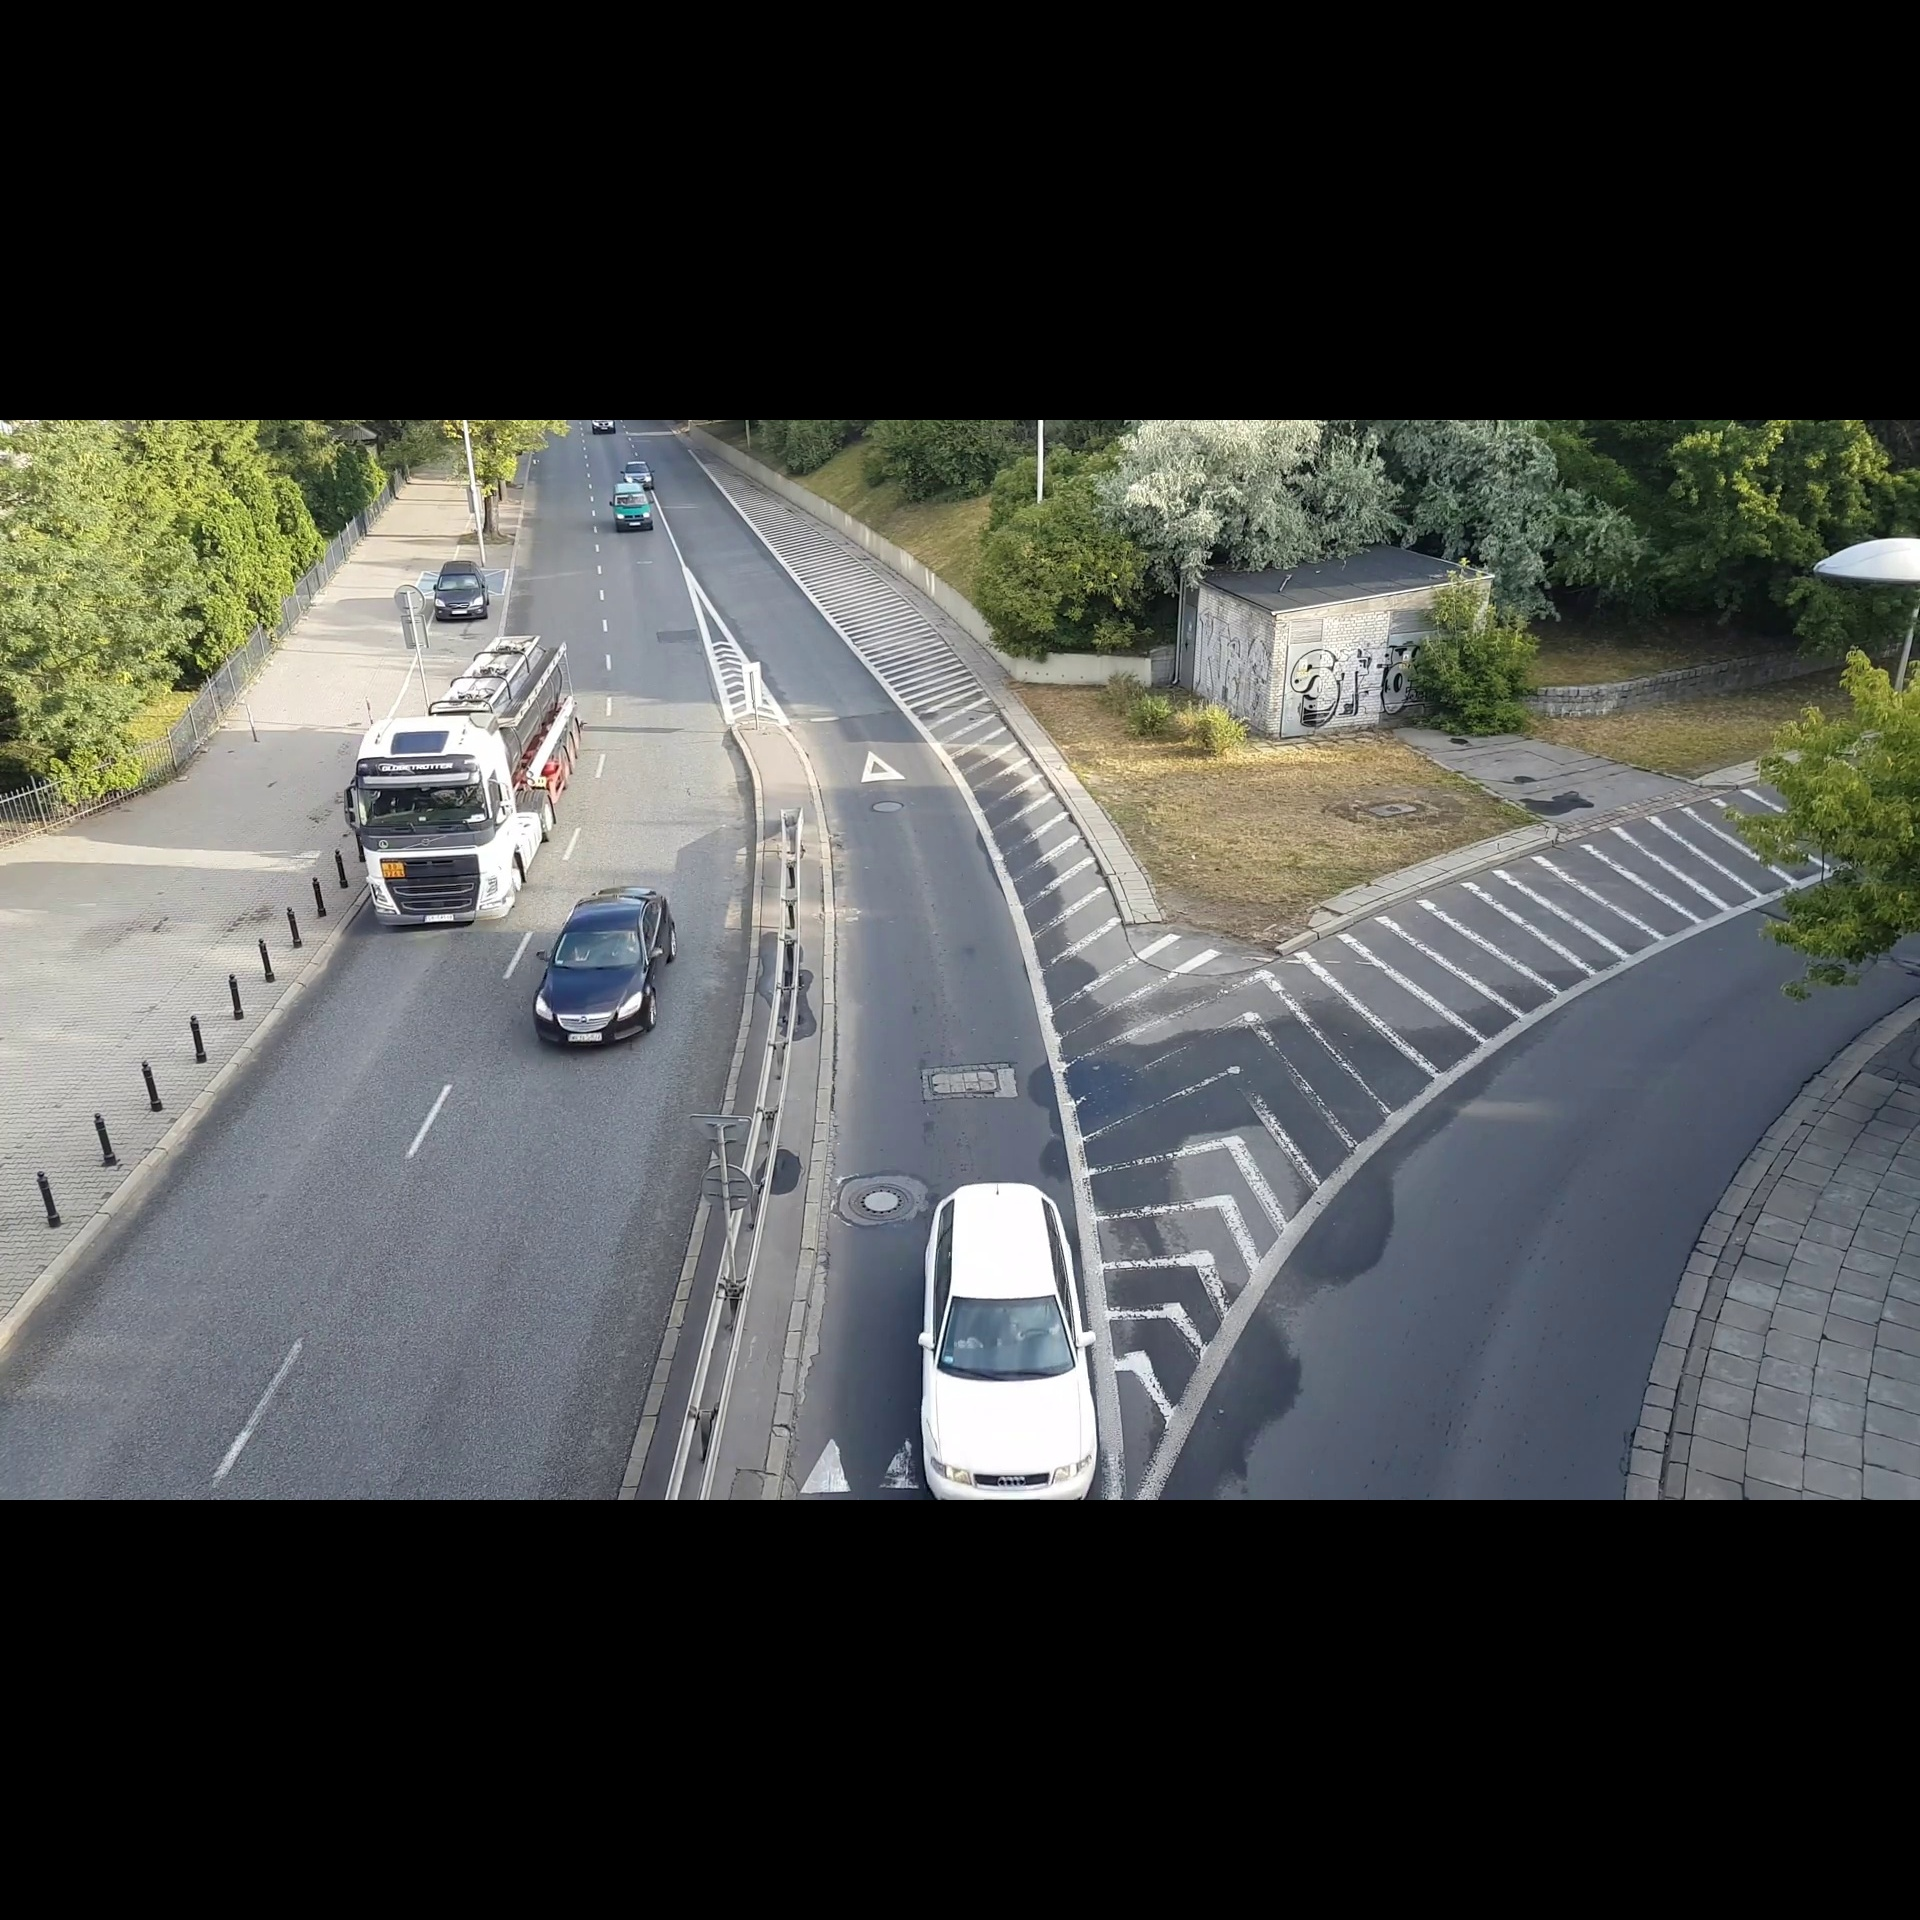vehicle: (338, 629, 587, 942), (898, 1173, 1106, 1502), (522, 877, 687, 1064), (427, 552, 492, 629), (607, 482, 656, 536), (617, 461, 656, 484), (591, 420, 617, 436)
